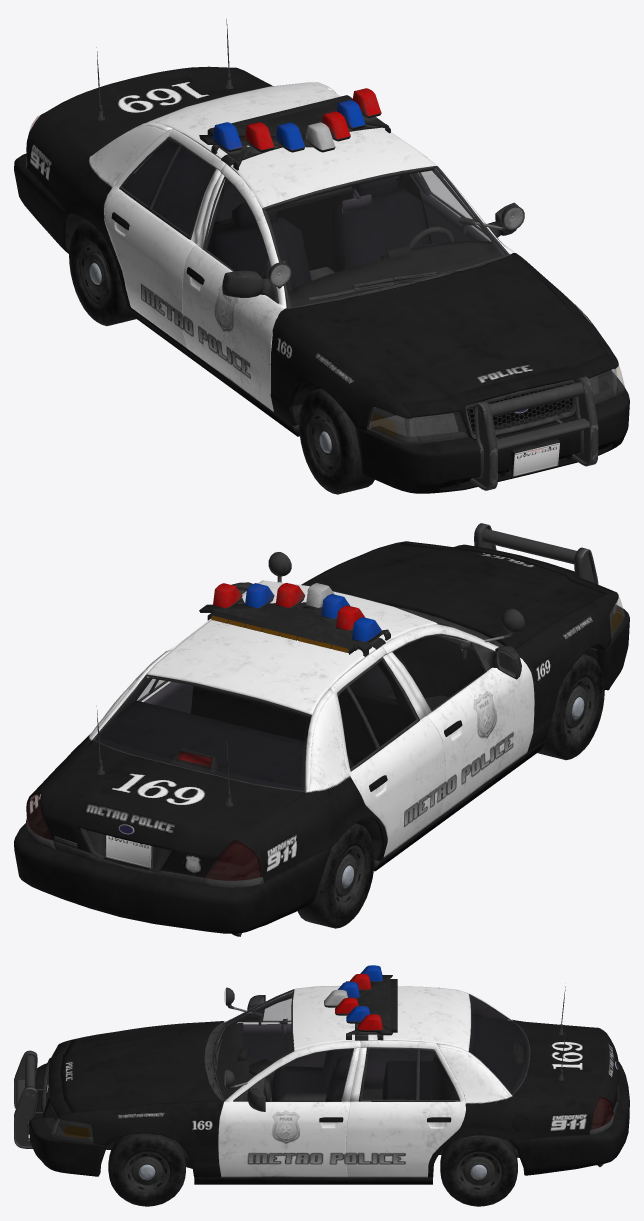
Rendered from 2001-crown-victoria-police-interceptor-g-9f30d3.glb.
The picture shows the model from 3 angles, top to bottom: view 1: azimuth 30°, elevation 25°; view 2: azimuth 150°, elevation 25°; view 3: azimuth 270°, elevation 25°; orthographic projection. The views are drawn at different scales.
Parts seen in each view (by area): view 1: body, wheel-front-right, wheel-back-right, wheel-front-left; view 2: body, wheel-front-right, wheel-back-right; view 3: body, wheel-front-left, wheel-back-left, wheel-front-right.
Part boxes in pixels (x1,y1,x2,y2): body: (14, 19, 629, 493); wheel-front-right: (299, 388, 504, 494); wheel-back-right: (69, 221, 135, 325); wheel-front-left: (555, 376, 598, 466); body: (14, 528, 629, 936); wheel-front-right: (537, 547, 604, 760); wheel-back-right: (297, 823, 374, 928); body: (16, 965, 629, 1184); wheel-front-left: (14, 1086, 185, 1206); wheel-back-left: (440, 1102, 616, 1206); wheel-front-right: (14, 1050, 42, 1108).
Size of the model in its own units: 1.75 by 1.35 by 4.39.
Materials: 7 (7 with a texture image).
